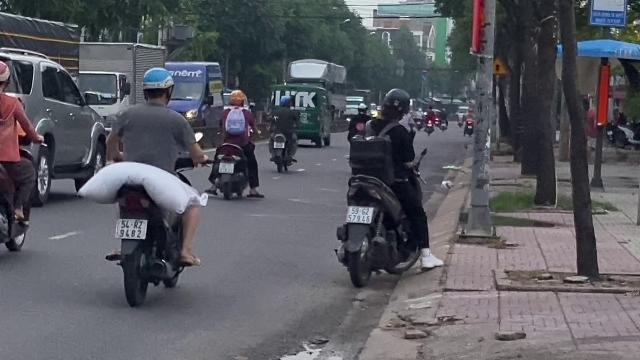helmet: (140, 66, 174, 103), (379, 88, 411, 120), (228, 88, 245, 105)
licenseplate: (115, 219, 146, 239), (346, 206, 374, 224), (218, 163, 234, 173)
motorcyclist: (80, 65, 208, 305), (335, 84, 433, 286), (208, 89, 260, 201)
